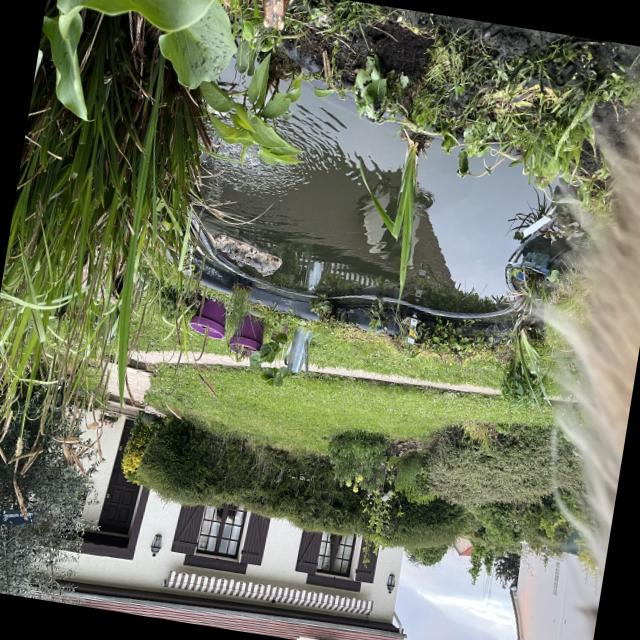Dog: (482, 37, 640, 640)
